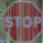Stop: (3, 0, 42, 42)
